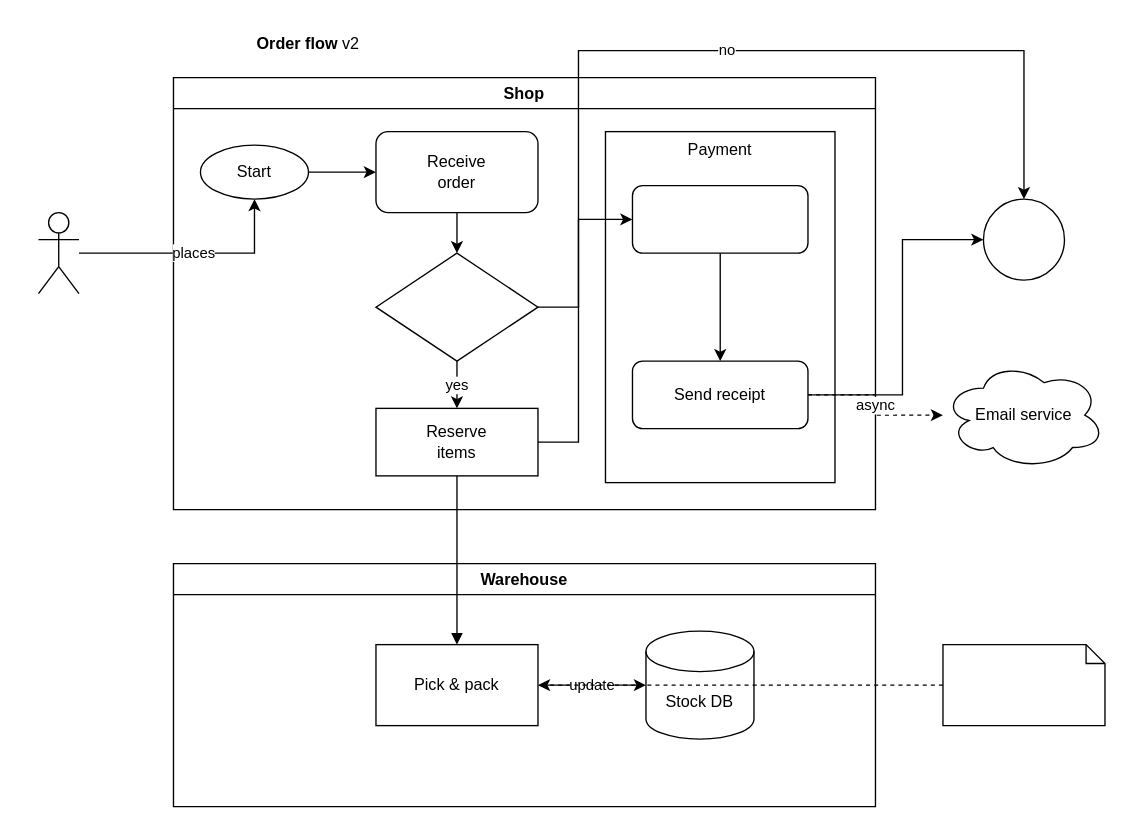
This 1129x830 diagram has some shape labels left out. Here are the shapes that lost their labels. From the top down, the centre of each, then its label:
At [719,218]: "Charge card".
At [58,252]: "Customer".
At [1023,239]: "End".
At [456,306]: "In stock?".
At [1023,684]: "Ships within 24 hours".
